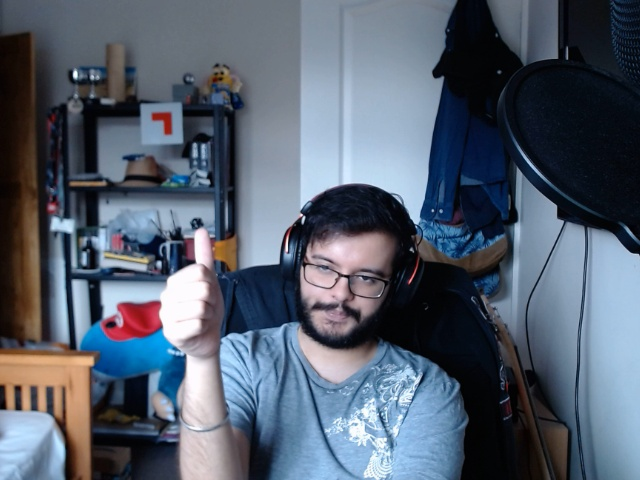Thumbs up: (157, 220, 234, 364)
